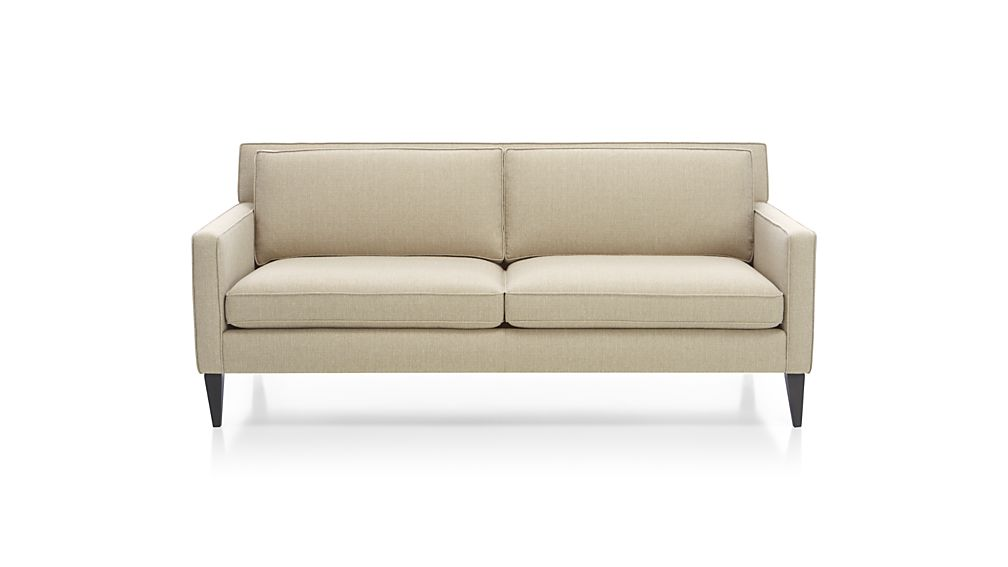chairs: (191, 138, 821, 437)
